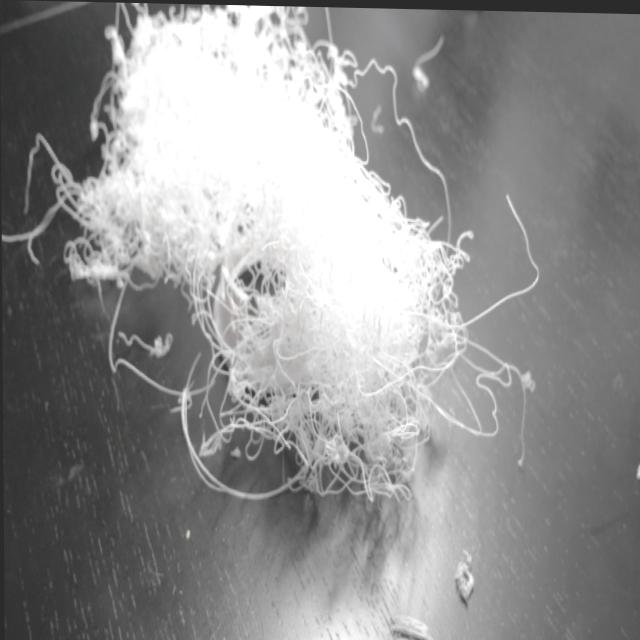spaghetti: (52, 4, 470, 499), (406, 23, 453, 101), (450, 544, 486, 613), (388, 604, 434, 640)
